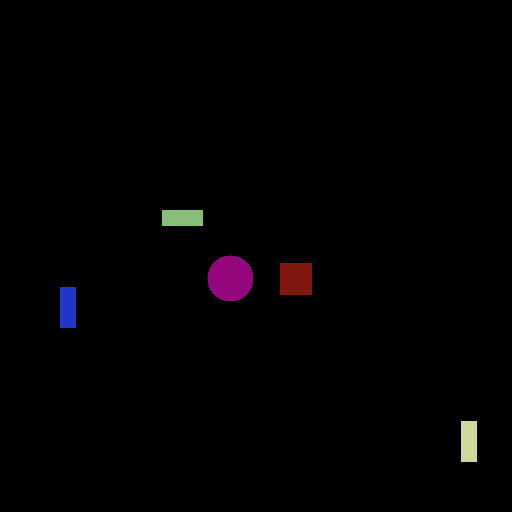circle: (206, 251, 254, 302)
side_rect: (154, 203, 208, 229)
square: (276, 263, 319, 300)
up_rect: (457, 414, 480, 467), (56, 279, 79, 332)
